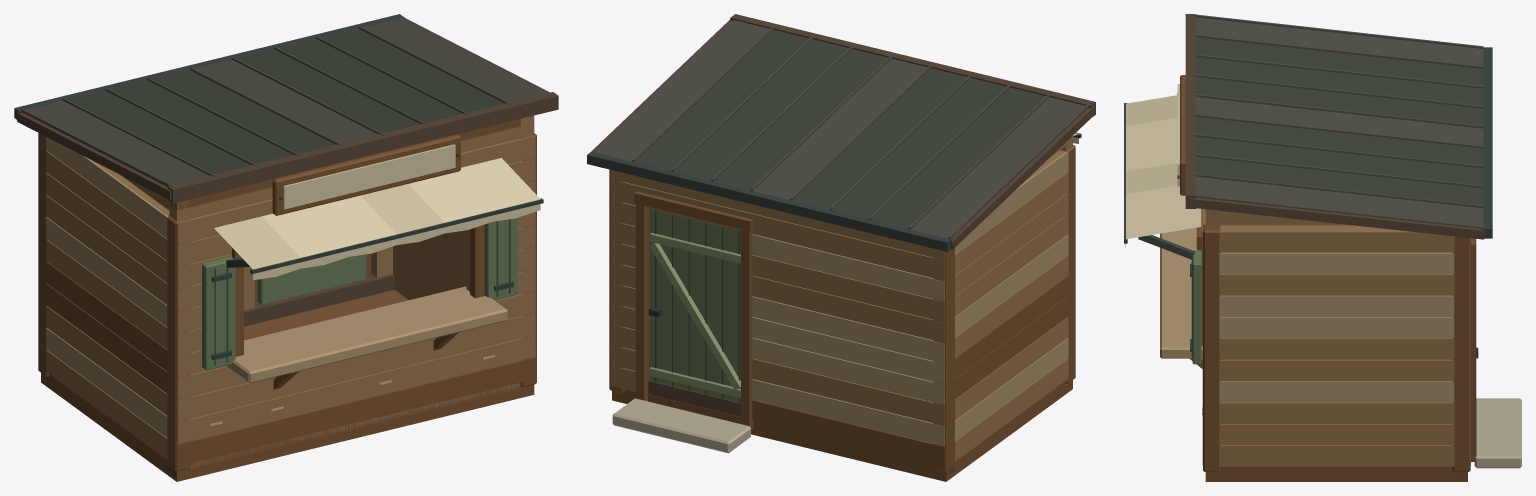
File: lwf_service_point_v2.glb
The picture shows the model from 3 angles, left to right: view 1: azimuth 30°, elevation 25°; view 2: azimuth 150°, elevation 25°; view 3: azimuth 270°, elevation 25°; orthographic projection. The views are drawn at different scales.
Parts seen in each view (by area): view 1: LWF_ServicePoint_Shell, LWF_ServicePoint_Counter, LWF_ServicePoint_Awning, LWF_ServicePoint_Signage; view 2: LWF_ServicePoint_Shell; view 3: LWF_ServicePoint_Shell, LWF_ServicePoint_Awning, LWF_ServicePoint_Counter, LWF_ServicePoint_Signage.
Part boxes in pixels (<box>): LWF_ServicePoint_Shell: <box>14,14,558,481</box>; LWF_ServicePoint_Counter: <box>202,218,517,389</box>; LWF_ServicePoint_Awning: <box>214,158,543,280</box>; LWF_ServicePoint_Signage: <box>272,134,460,215</box>; LWF_ServicePoint_Shell: <box>587,14,1095,481</box>; LWF_ServicePoint_Shell: <box>1185,14,1521,481</box>; LWF_ServicePoint_Awning: <box>1124,95,1202,259</box>; LWF_ServicePoint_Counter: <box>1160,209,1202,368</box>; LWF_ServicePoint_Signage: <box>1177,75,1185,195</box>.
Size of the model in its own units: 4.13 by 3.09 by 3.79.
1 material, 1 textured.
